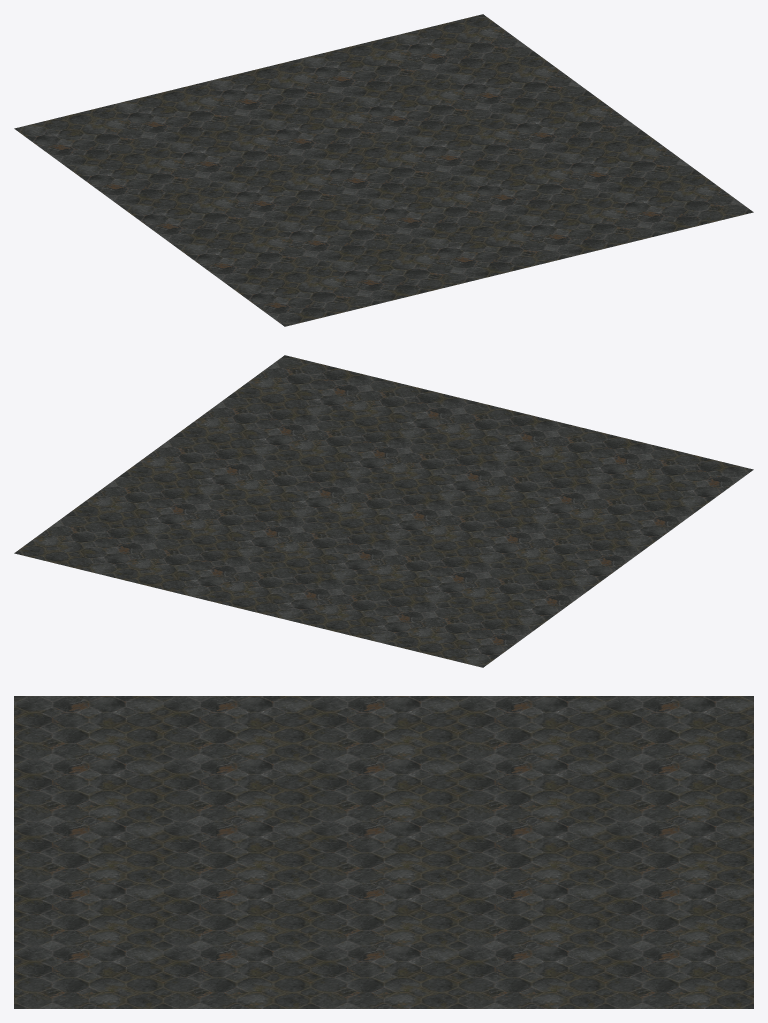
File: floor_central.glb
The picture shows the model from 3 angles, top to bottom: view 1: azimuth 30°, elevation 25°; view 2: azimuth 150°, elevation 25°; view 3: azimuth 270°, elevation 25°; orthographic projection. The views are drawn at different scales.
Visible parts, largest first — view 1: floor; view 2: floor; view 3: floor.
Boxes of the visible parts, <box> form: floor: <box>14,14,753,326</box>; floor: <box>14,355,753,667</box>; floor: <box>14,696,753,1008</box>.
Bounding box in the file's own units: 30 × 2.26e-06 × 30.
1 material, 1 textured.
